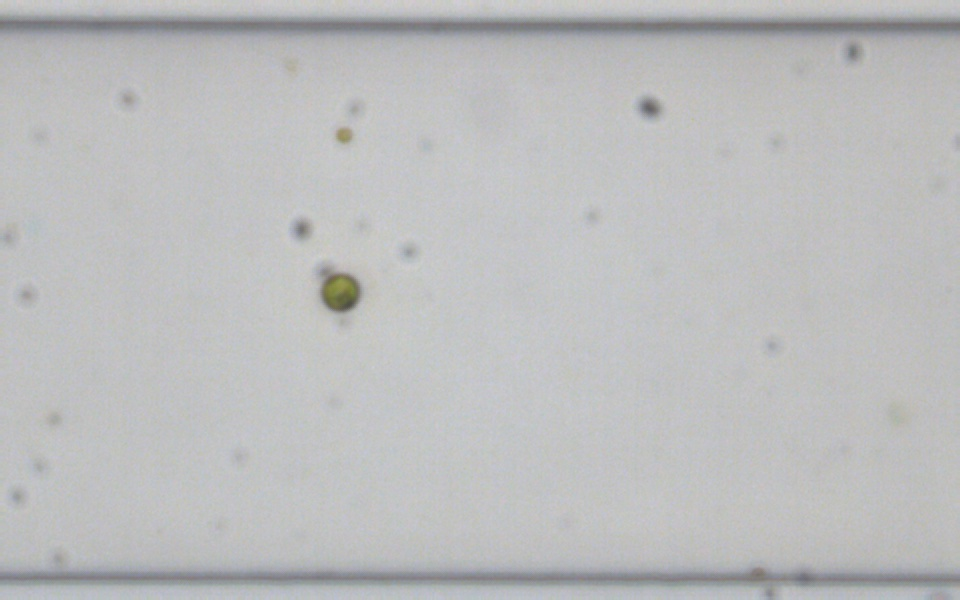Chlorella: (335, 125, 354, 143)
Platymonas: (318, 271, 361, 312)
